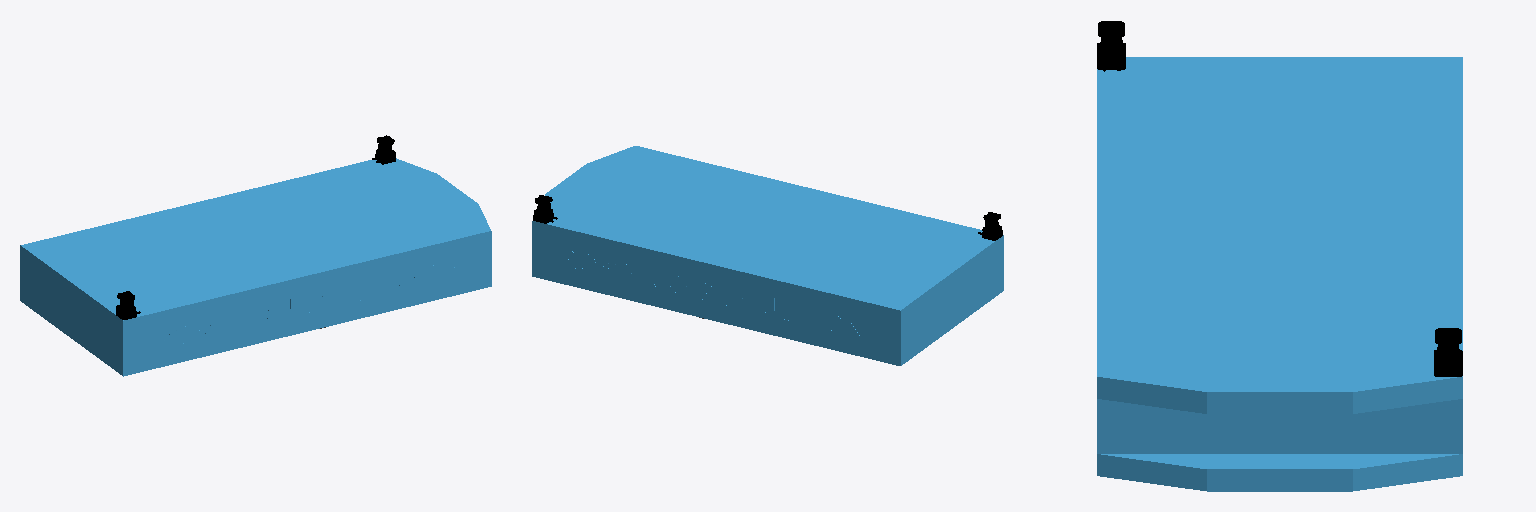
The robot description file, URDF, robot "Uqtr_Robot":
<?xml version="1.0" encoding="utf-8"?>
<!-- =================================================================================== -->
<!-- |    This document was autogenerated by xacro from robot.urdf.xacro               | -->
<!-- |    EDITING THIS FILE BY HAND IS NOT RECOMMENDED                                 | -->
<!-- =================================================================================== -->
<robot name="Uqtr_Robot">
  <!--<gazebo reference ="chassis">
     <material>Gazebo/Orange</material>
  </gazebo>-->
  <gazebo reference="roue_motrice_droite">
    <material>Gazebo/Black</material>
  </gazebo>
  <gazebo reference="roue_motrice_gauche">
    <material>Gazebo/Black</material>
  </gazebo>
  <gazebo reference="capteur_laser_avant">
    <material>Gazebo/Yellow</material>
  </gazebo>
  <gazebo reference="capteur_laser_arriere">
    <material>Gazebo/Yellow</material>
  </gazebo>
  <!-- capteur_laser_avant -->
  <gazebo reference="capteur_laser_avant">
    <turnGravityOff>false</turnGravityOff>
    <sensor name="chassis_hokuyo_sensor" type="ray">
      <pose>0 0 0 0 0 </pose>
      <visualize>false</visualize>
      <update_rate>20</update_rate>
      <!-- 20-->
      <ray>
        <scan>
          <horizontal>
            <samples>720</samples>
            <resolution>1</resolution>
            <min_angle>-2.35619449</min_angle>
            <max_angle>2.35619449</max_angle>
          </horizontal>
        </scan>
        <range>
          <min>0.10</min>
          <max>40.0</max>
          <resolution>0.1</resolution>
        </range>
        <noise>
          <type>gaussian</type>
          <mean>0.0</mean>
          <stddev>0.01</stddev>
        </noise>
      </ray>
      <plugin filename="libgazebo_ros_laser.so" name="gazebo_ros_head_hokuyo_controller">
        <topicName>/scan_avant</topicName>
        <frameName>capteur_laser_avant</frameName>
      </plugin>
    </sensor>
  </gazebo>
  <!-- capteur_laser_arriere-->
  <gazebo reference="capteur_laser_arriere">
    <turnGravityOff>false</turnGravityOff>
    <sensor name="chassis_hokuyo_sensor_arr" type="ray">
      <pose>0 0 0 0 0 </pose>
      <visualize>false</visualize>
      <update_rate>20</update_rate>
      <ray>
        <scan>
          <horizontal>
            <samples>720</samples>
            <resolution>1</resolution>
            <min_angle>-5.672320067</min_angle>
            <max_angle>-0.785398163</max_angle>
          </horizontal>
        </scan>
        <range>
          <min>0.10</min>
          <max>40.0</max>
          <resolution>0.001</resolution>
        </range>
        <noise>
          <type>gaussian</type>
          <mean>0.0</mean>
          <stddev>0.01</stddev>
        </noise>
      </ray>
      <plugin filename="libgazebo_ros_laser.so" name="gazebo_ros_head_hokuyo_controller">
        <topicName>/scan_arriere</topicName>
        <frameName>capteur_laser_arriere</frameName>
      </plugin>
    </sensor>
  </gazebo>
  <!-- IMU -->
  <gazebo>
    <plugin filename="libgazebo_ros_imu.so" name="imu_plugin">
      <alwaysOn>true</alwaysOn>
      <bodyName>adis1647x_pcb</bodyName>
      <topicName>imu</topicName>
      <serviceName>imu_service</serviceName>
      <gaussianNoise>0.0</gaussianNoise>
      <updateRate>20.0</updateRate>
    </plugin>
  </gazebo>
  <gazebo>
    <plugin filename="libgazebo_ros_diff_drive.so" name="differential_drive_controller">
      <alwaysOn>true</alwaysOn>
      <legacyMode>false</legacyMode>
      <updateRate>100</updateRate>
      <leftJoint>chassis_roue_motrice_gauche</leftJoint>
      <rightJoint>chassis_roue_motrice_droite</rightJoint>
      <wheelSeparation>0.6855600</wheelSeparation>
      <wheelDiameter>0.2032000</wheelDiameter>
      <torque>20</torque>
      <commandTopic>Uqtr_Robot/diff_drive_controller/cmd_vel</commandTopic>
      <odometryTopic>Uqtr_Robot/diff_drive_controller/odom</odometryTopic>
      <odometryFrame>odom</odometryFrame>
      <odometrySource>world</odometrySource>
      <publishOdomTF>false</publishOdomTF>
      <publishTf>1</publishTf>
      <rosDebugLevel>na</rosDebugLevel>
      <robotBaseFrame>base_link</robotBaseFrame>
      <publishWheelTF>true</publishWheelTF>
      <publishWheelJointState>false</publishWheelJointState>
    </plugin>
  </gazebo>
  <!--Gravite pour le chassis-->
  <gazebo reference="chassis">
    <turnGravityOff>false</turnGravityOff>
  </gazebo>
  <gazebo reference="roue_motrice_droite">
    <mu1 value="449"/>
    <!--449-->
    <mu2 value="449"/>
    <!--449-->
    <kp value="1000000.0"/>
    <!--10000000.0-->
    <kd value="1.0"/>
    <!--1.0-->
  </gazebo>
  <gazebo reference="roue_motrice_gauche">
    <mu1 value="449"/>
    <!--449-->
    <mu2 value="449"/>
    <!--449-->
    <kp value="1000000.0"/>
    <!--10000000.0-->
    <kd value="1.0"/>
    <!--1.0-->
  </gazebo>
  <gazebo reference="chassis">
    <mu1>0.0</mu1>
    <mu2>0.0</mu2>
  </gazebo>
  <!--Dummy-->
  <link name="base_link">
   </link>
  <joint name="dummy_joint" type="fixed">
    <origin rpy="0 0 0" xyz="0 0 0"/>
    <parent link="base_link"/>
    <child link="chassis"/>
  </joint>
  <!--Chassis-->
  <link name="chassis">
    <inertial>
      <mass value="49.497"/>
      <inertia ixx="1.07" ixy="0" ixz="0.09" iyy="4.55" iyz="0" izz="5.30"/>
    </inertial>
    <visual>
      <origin rpy="0 0 0" xyz="0 0 0"/>
      <geometry>
        <mesh filename="package://uqtr_robot/meshes/chassis.dae"/>
      </geometry>
    </visual>
    <collision>
      <origin rpy="0 0 0" xyz="0 0 0"/>
      <geometry>
        <mesh filename="package://uqtr_robot/meshes/chassis.dae"/>
      </geometry>
      <physics type="ode">
        <gravity xyz="0 0 -9.8"/>
        <ode>
          <solver dt="0.001" iters="10" sor="1.3" type="quick"/>
          <constraints cfm="0.0" contact_max_correcting_vel="10.0" contact_surface_layer="0.001" erp="0.1"/>
        </ode>
      </physics>
    </collision>
  </link>
  <!-- roue motrice droite -->
  <link name="roue_motrice_droite">
    <inertial>
      <mass value="1.3118"/>
      <inertia ixx="0.00367244758684" ixy="0.0" ixz="0.0" iyy="0.00367244758684" iyz="0.0" izz="0.006770567104"/>
    </inertial>
    <visual>
      <origin rpy="0 0 0" xyz="0 0 0"/>
      <geometry>
        <mesh filename="package://uqtr_robot/meshes/roue_motrice_droite.STL"/>
      </geometry>
      <material name="">
        <color rgba="0.29804 0.29804 0.29804 1"/>
      </material>
    </visual>
    <collision>
      <origin rpy="0 0 0" xyz="0 0 0"/>
      <geometry>
        <mesh filename="package://uqtr_robot/meshes/roue_motrice_droite.STL"/>
      </geometry>
    </collision>
  </link>
  <joint name="chassis_roue_motrice_droite" type="continuous">
    <origin rpy="0 0 0" xyz="0.074873 -0.34278 0.086706"/>
    <parent link="chassis"/>
    <child link="roue_motrice_droite"/>
    <axis xyz="0 1 0"/>
    <limit effort="100" velocity="100"/>
    <dynamics damping="0.0" friction="0.0"/>
  </joint>
  <!-- roue motrice gauche -->
  <link name="roue_motrice_gauche">
    <inertial>
      <mass value="1.3118"/>
      <inertia ixx="0.00367244758684" ixy="0.0" ixz="0.0" iyy="0.00367244758684" iyz="0.0" izz="0.006770567104"/>
    </inertial>
    <visual>
      <origin rpy="0 0 0" xyz="0 0 0"/>
      <geometry>
        <mesh filename="package://uqtr_robot/meshes/roue_motrice_gauche.STL"/>
      </geometry>
      <material name="">
        <color rgba="0.29804 0.29804 0.29804 1"/>
      </material>
    </visual>
    <collision>
      <origin rpy="0 0 0" xyz="0 0 0"/>
      <geometry>
        <mesh filename="package://uqtr_robot/meshes/roue_motrice_gauche.STL"/>
      </geometry>
    </collision>
  </link>
  <joint name="chassis_roue_motrice_gauche" type="continuous">
    <origin rpy="0 0 0" xyz="0.074873 0.34278 0.086706"/>
    <parent link="chassis"/>
    <child link="roue_motrice_gauche"/>
    <axis xyz="0 1 0"/>
    <limit effort="100" velocity="100"/>
    <dynamics damping="0.0" friction="0.0"/>
  </joint>
  <!-- capteur laser avant -->
  <link name="capteur_laser_avant">
    <inertial>
      <origin rpy="0 0 0" xyz="0.02471 6.5845E-10 -0.011912"/>
      <mass value="0.32341"/>
      <inertia ixx="1.9683E-05" ixy="6.844E-12" ixz="-0.00012644" iyy="0.00083192" iyz="1.0654E-12" izz="0.00081224"/>
    </inertial>
    <visual>
      <origin rpy="0 0 0" xyz="0 0 0"/>
      <geometry>
        <mesh filename="package://uqtr_robot/meshes/capteur_laser_avant.STL"/>
      </geometry>
      <material name="">
        <color rgba="0 0 0 1"/>
      </material>
    </visual>
    <collision>
      <origin rpy="0 0 0" xyz="0 0 0"/>
      <geometry>
        <mesh filename="package://uqtr_robot/meshes/capteur_laser_avant.STL"/>
      </geometry>
    </collision>
  </link>
  <joint name="chassis_capteur_laser_avant" type="fixed">
    <origin rpy="0 0 0" xyz="0.76419 0.351 0.28335"/>
    <parent link="chassis"/>
    <child link="capteur_laser_avant"/>
    <axis xyz="0 0 0"/>
  </joint>
  <!-- capteur laser arriere  -->
  <link name="capteur_laser_arriere">
    <inertial>
      <origin rpy="0 0 3.14" xyz="0.007429 -9.2927E-10 -0.016915"/>
      <mass value="0.22916"/>
      <inertia ixx="0" ixy="0" ixz="0" iyy="0" iyz="0" izz="0"/>
    </inertial>
    <visual>
      <origin rpy="0 0 0" xyz="0 0 0"/>
      <geometry>
        <mesh filename="package://uqtr_robot/meshes/capteur_laser_arriere.STL"/>
      </geometry>
      <material name="">
        <color rgba="0 0 0 1"/>
      </material>
    </visual>
    <collision>
      <origin rpy="0 0 0" xyz="0 0 0"/>
      <geometry>
        <mesh filename="package://uqtr_robot/meshes/capteur_laser_arriere.STL"/>
      </geometry>
    </collision>
  </link>
  <joint name="chassis_capteur_laser_arriere" type="fixed">
    <origin rpy="0 0 0" xyz="-0.76419 -0.351 0.28335"/>
    <parent link="chassis"/>
    <child link="capteur_laser_arriere"/>
    <axis xyz="0 0 0"/>
  </joint>
  <!-- adis1647x_pcb ** pas configurer encore ** -->
  <link name="adis1647x_pcb">
    <inertial>
      <origin rpy="0 0 0" xyz="3.3961E-18 3.8417E-18 0.005"/>
      <mass value="0.026795"/>
      <inertia ixx="0" ixy="0" ixz="0" iyy="0" iyz="0" izz="0"/>
    </inertial>
    <visual>
      <origin rpy="0 0 0" xyz="0 0 0"/>
      <geometry>
        <mesh filename="package://uqtr_robot/meshes/adis1647x_pcb.STL"/>
      </geometry>
      <material name="">
        <color rgba="0.89804 0.91765 0.92941 1"/>
      </material>
    </visual>
    <collision>
      <origin rpy="0 0 0" xyz="0 0 0"/>
      <geometry>
        <mesh filename="package://uqtr_robot/meshes/adis1647x_pcb.STL"/>
      </geometry>
    </collision>
  </link>
  <joint name="chassis_adis1647x_pcb" type="fixed">
    <origin rpy="0 0 0" xyz="0 0 0.00122"/>
    <parent link="chassis"/>
    <child link="adis1647x_pcb"/>
    <axis xyz="0 0 0"/>
  </joint>
</robot>

--- Render facts (derived) ---
Views: 3 orthographic renders of the robot side by side, from view 1: azimuth 30°, elevation 25°; view 2: azimuth 150°, elevation 25°; view 3: azimuth 270°, elevation 25°.
Robot: Uqtr_Robot — 7 links, 6 joints (2 continuous, 4 fixed); root link base_link; default pose: all joints at 0.
Visible links, largest first — view 1: chassis; view 2: chassis; view 3: chassis, capteur_laser_arriere, capteur_laser_avant.
Link boxes in pixels (<box>): chassis: <box>20,158,491,376</box>; chassis: <box>532,146,1003,365</box>; chassis: <box>1097,57,1462,491</box>; capteur_laser_arriere: <box>1097,21,1125,71</box>; capteur_laser_avant: <box>1434,328,1462,376</box>.
Size in the robot's own frame: 1.65 by 0.762 by 0.3305 metres.
6 mesh visuals loaded from 6 distinct referenced files (5 binary STL, 1 Collada DAE).